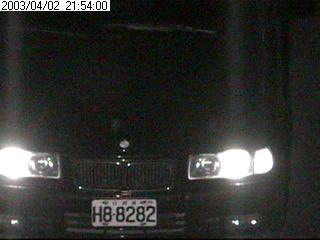plate: (89, 197, 159, 229)
